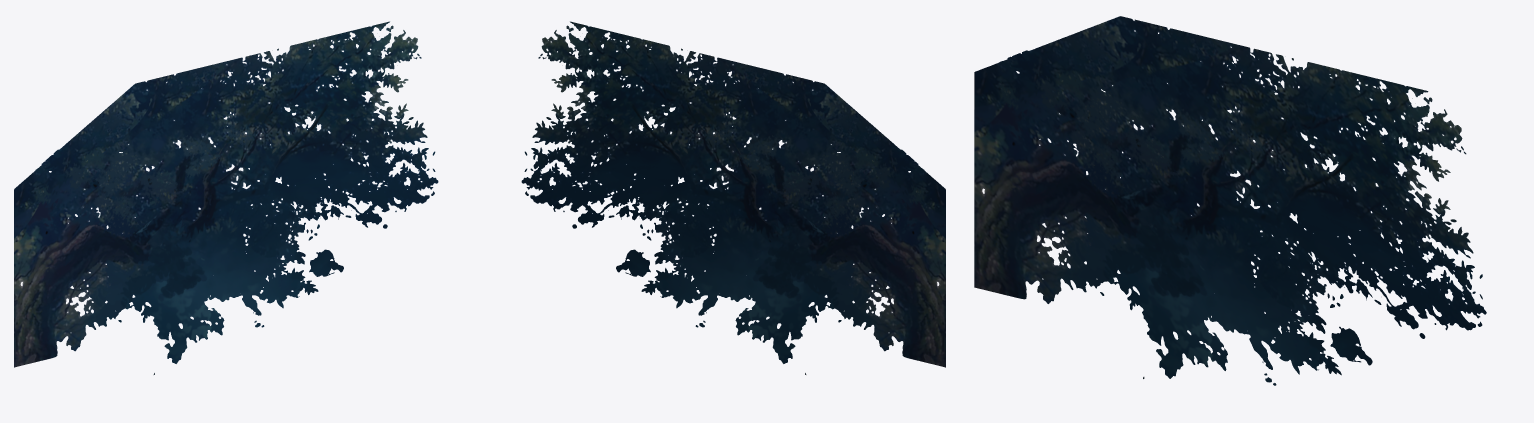
Rendered from HuBian_NightZhiwu2_fbx.FBX.
3 renders of one model, left to right at view 1: azimuth 30°, elevation 25°; view 2: azimuth 150°, elevation 25°; view 3: azimuth 330°, elevation 25°, orthographic. The views are drawn at different scales.
Visible parts, largest first — view 1: Object030; view 2: Object030; view 3: Object030.
Part boxes in pixels (x1,y1,x2,y2): Object030: (14,21,438,374); Object030: (521,21,945,374); Object030: (974,16,1486,385).
Bounding box in the file's own units: 6.5 × 4.1 × 1.05e-06.
Materials: 1 (1 with a texture image).
